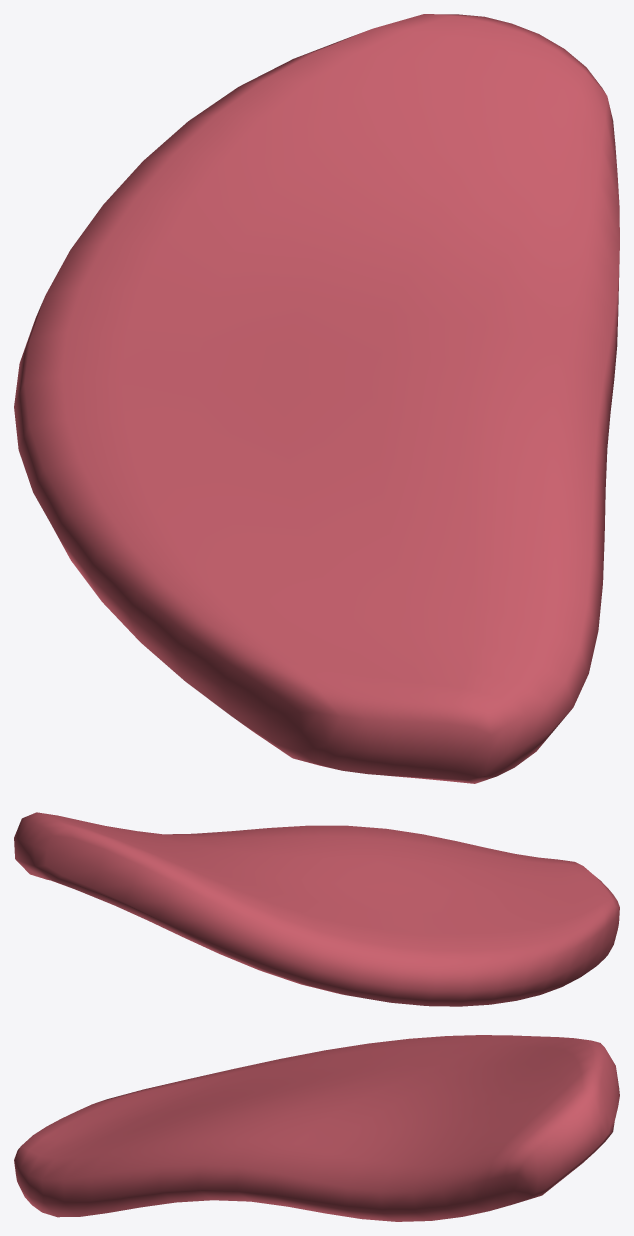
3 renders of one model, top to bottom at view 1: azimuth 30°, elevation 25°; view 2: azimuth 150°, elevation 25°; view 3: azimuth 270°, elevation 25°, orthographic. The views are drawn at different scales.
Visible parts, largest first — view 1: 右侧腓肠肌内侧头腱下囊; view 2: 右侧腓肠肌内侧头腱下囊; view 3: 右侧腓肠肌内侧头腱下囊.
Part boxes in pixels (x1,y1,x2,y2): 右侧腓肠肌内侧头腱下囊: [14, 14, 619, 783]; 右侧腓肠肌内侧头腱下囊: [14, 812, 619, 1006]; 右侧腓肠肌内侧头腱下囊: [14, 1035, 619, 1221].
Size of the model in its own units: 0.0232 by 0.0119 by 0.0275.
